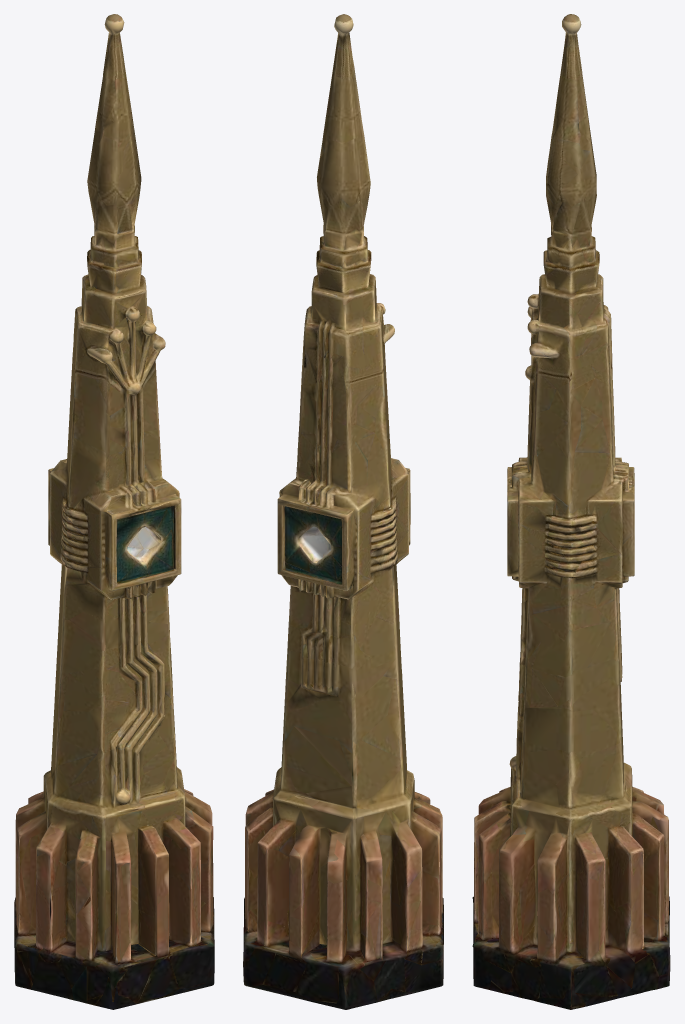
File: pole-finial.glb
The picture shows the model from 3 angles, left to right: view 1: azimuth 30°, elevation 25°; view 2: azimuth 150°, elevation 25°; view 3: azimuth 270°, elevation 25°; orthographic projection.
Size of the model in its own units: 0.4174 by 1.9 by 0.3603.
Materials: 1 (1 with a texture image).
